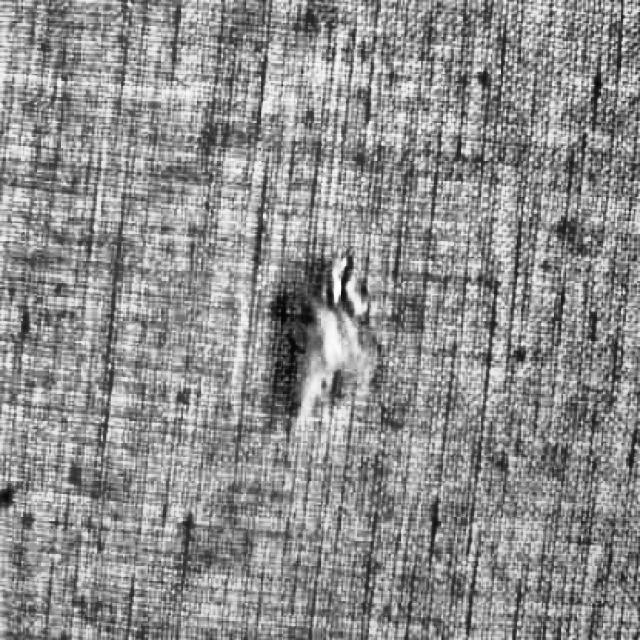objects: (237, 240, 403, 446)
